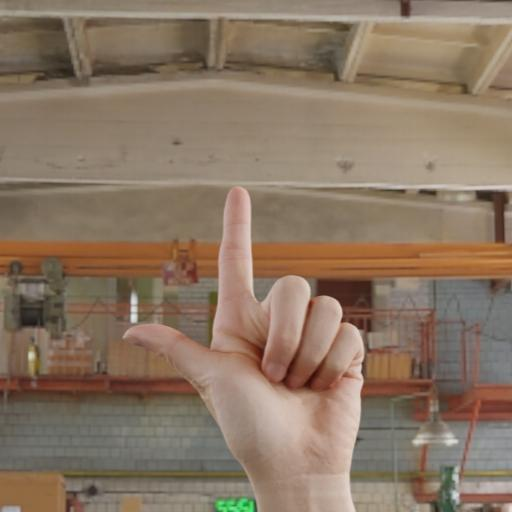L: (110, 156, 384, 503)
